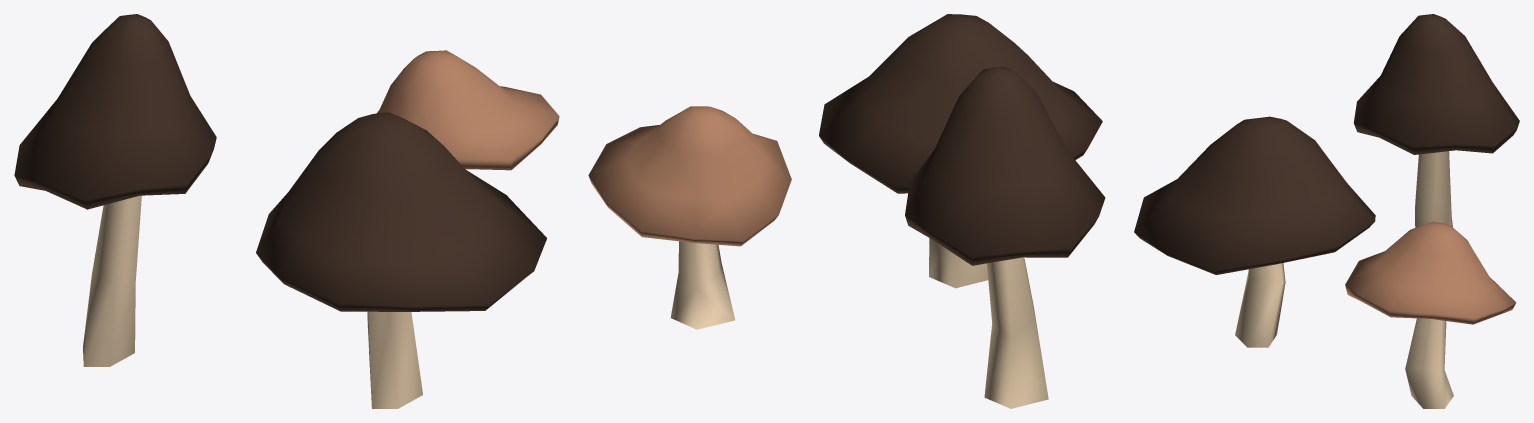
The model's file is Mushroom_Group_2.fbx.
The picture shows the model from 3 angles, left to right: view 1: azimuth 30°, elevation 25°; view 2: azimuth 150°, elevation 25°; view 3: azimuth 270°, elevation 25°; orthographic projection. The views are drawn at different scales.
Visible parts, largest first — view 1: Mushroom_Group_2; view 2: Mushroom_Group_2; view 3: Mushroom_Group_2.
Part boxes in pixels (box(x1,y1,x2,y2)): Mushroom_Group_2: box(14, 14, 559, 408); Mushroom_Group_2: box(588, 14, 1105, 408); Mushroom_Group_2: box(1134, 14, 1519, 408).
Bounding box in the file's own units: 0.6614 × 0.4181 × 0.5519.
